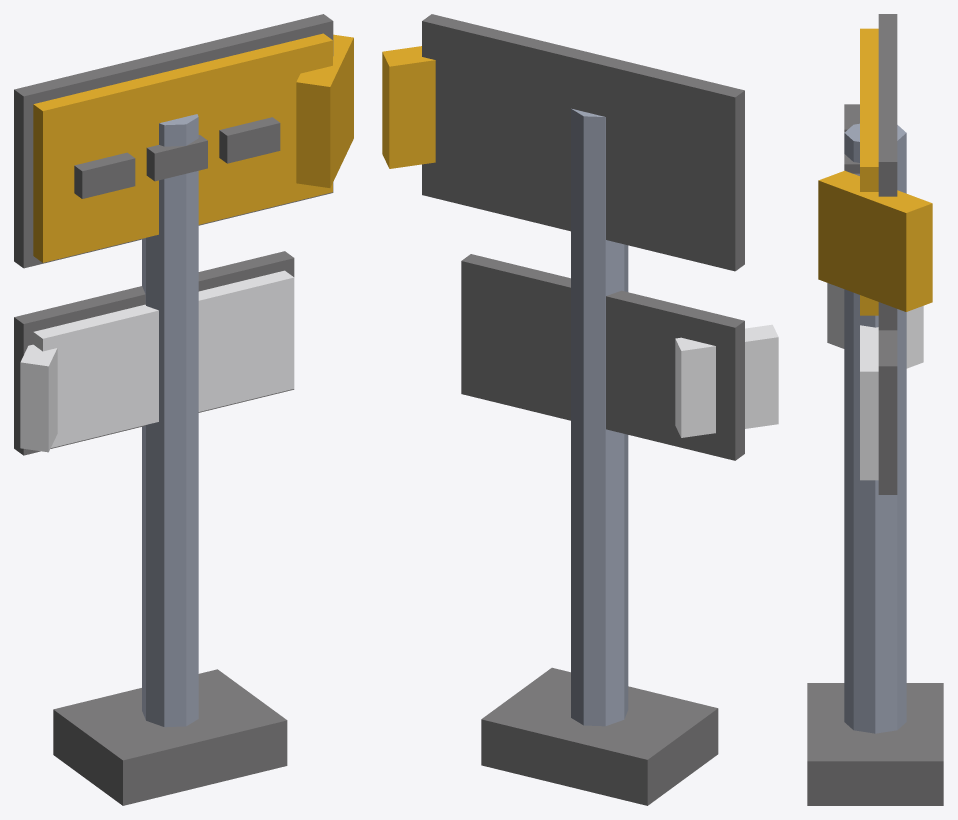
Rendered from sign_dir.glb.
3 views of the same model, side by side, from view 1: azimuth 30°, elevation 25°; view 2: azimuth 150°, elevation 25°; view 3: azimuth 270°, elevation 25° (orthographic). The views are drawn at different scales.
Visible parts, largest first — view 1: sign_dir; view 2: sign_dir; view 3: sign_dir.
Part boxes in pixels (bbox=[...]): sign_dir: bbox=[14, 14, 353, 805]; sign_dir: bbox=[382, 14, 778, 805]; sign_dir: bbox=[807, 14, 943, 805].
Bounding box in the file's own units: 0.75 × 1.38 × 0.25.
